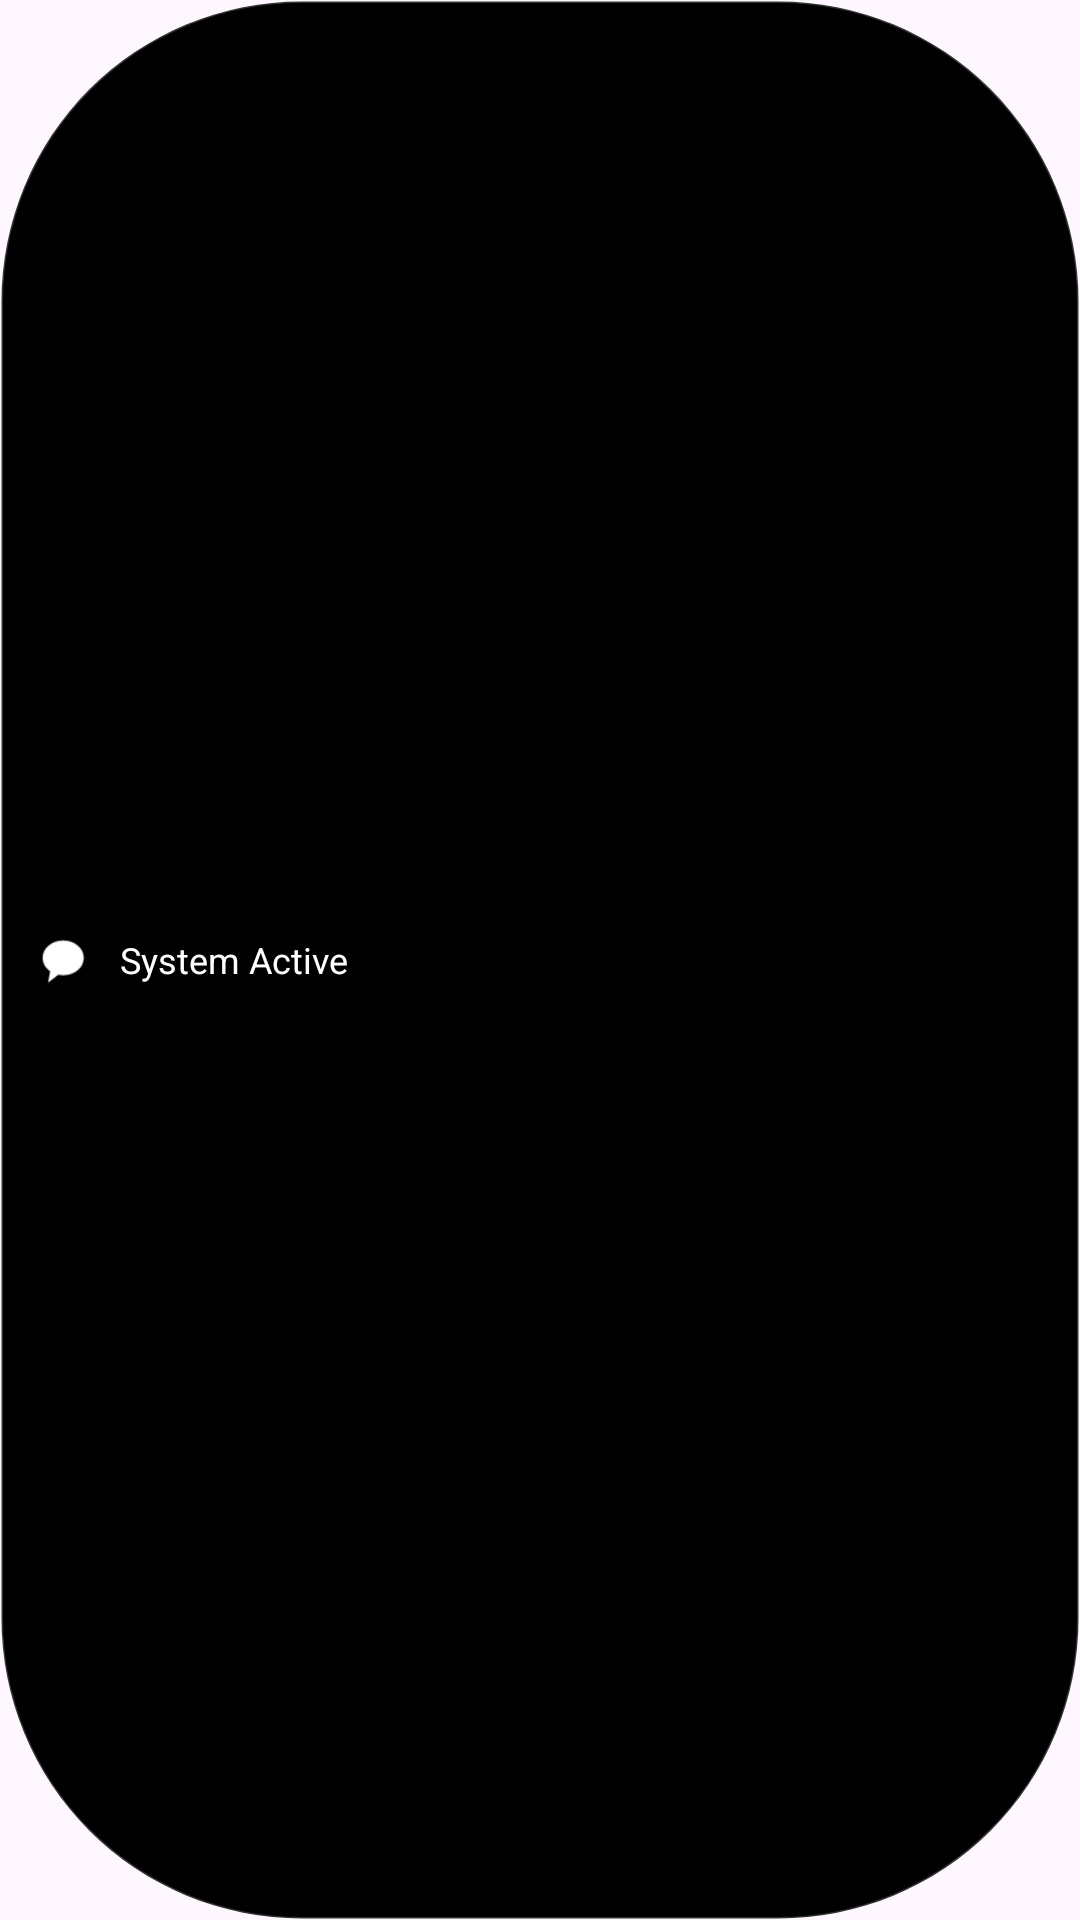

Locate icon controls on the screen. Image size 1080 x 1920, boxes as (x1, y1, x2, y2).
sym action chat: (42, 940, 85, 983)
